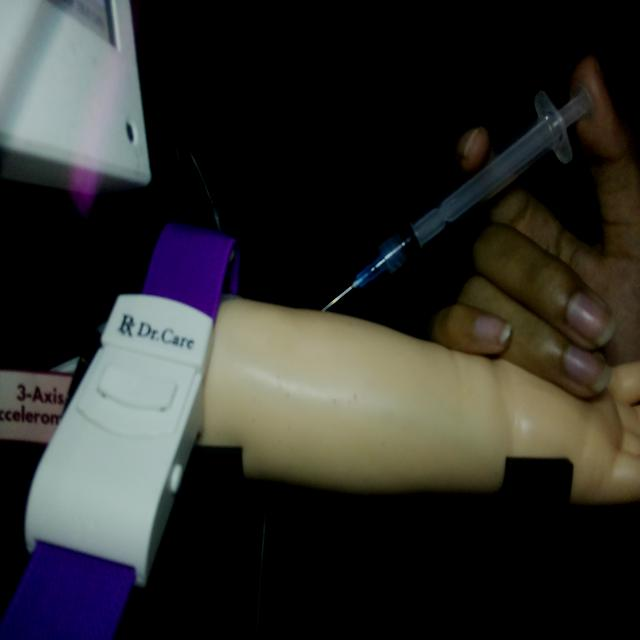28 degrees: (319, 80, 594, 314)
